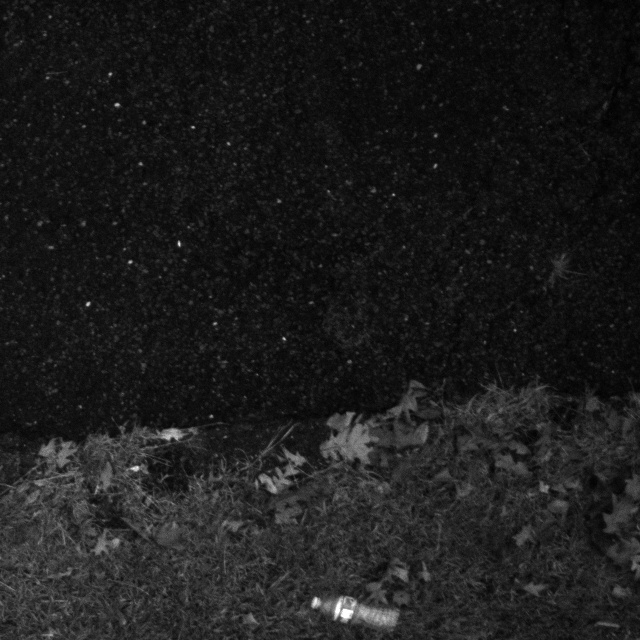bottle: (302, 576, 407, 638)
